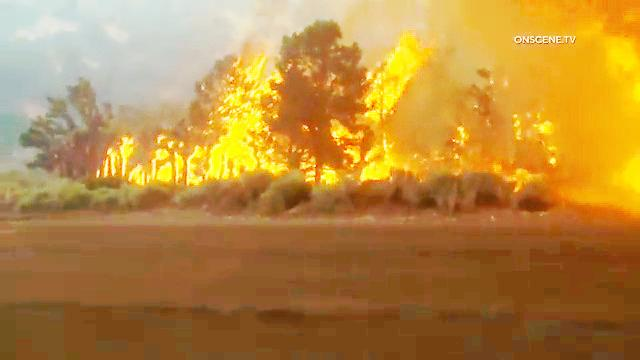fire: (216, 52, 278, 176), (373, 24, 436, 111), (335, 130, 407, 180), (97, 119, 151, 183), (308, 155, 343, 192), (525, 102, 554, 141)
smoke: (445, 0, 505, 37)
